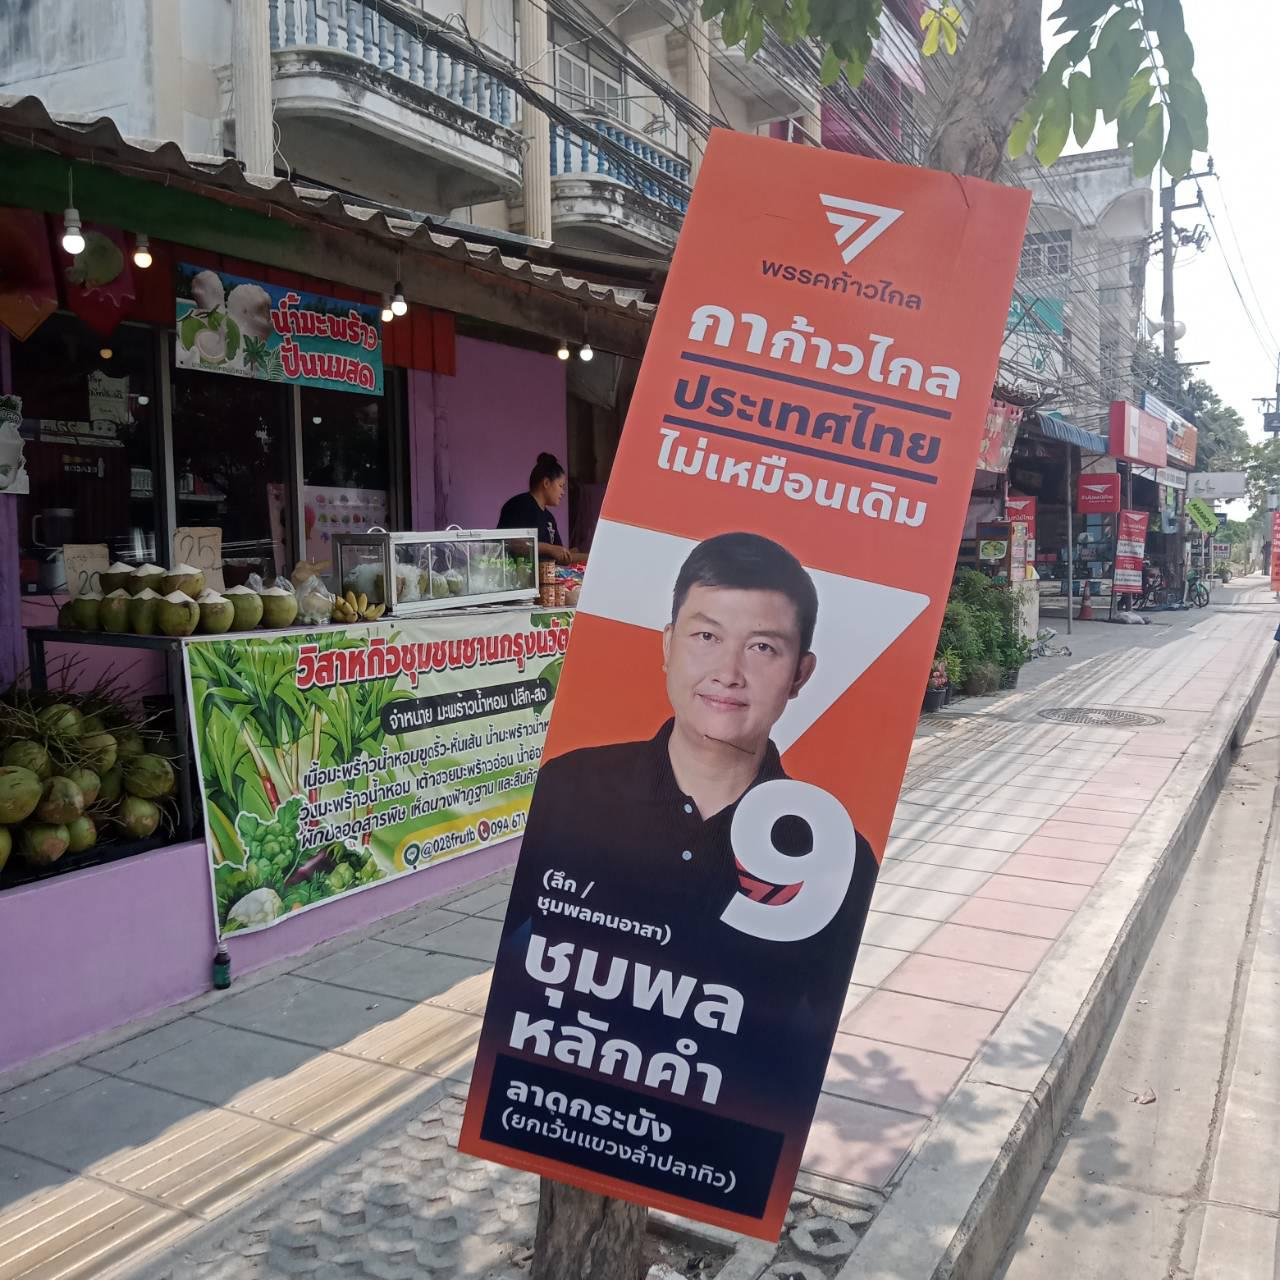Banner: (456, 125, 1030, 1244)
